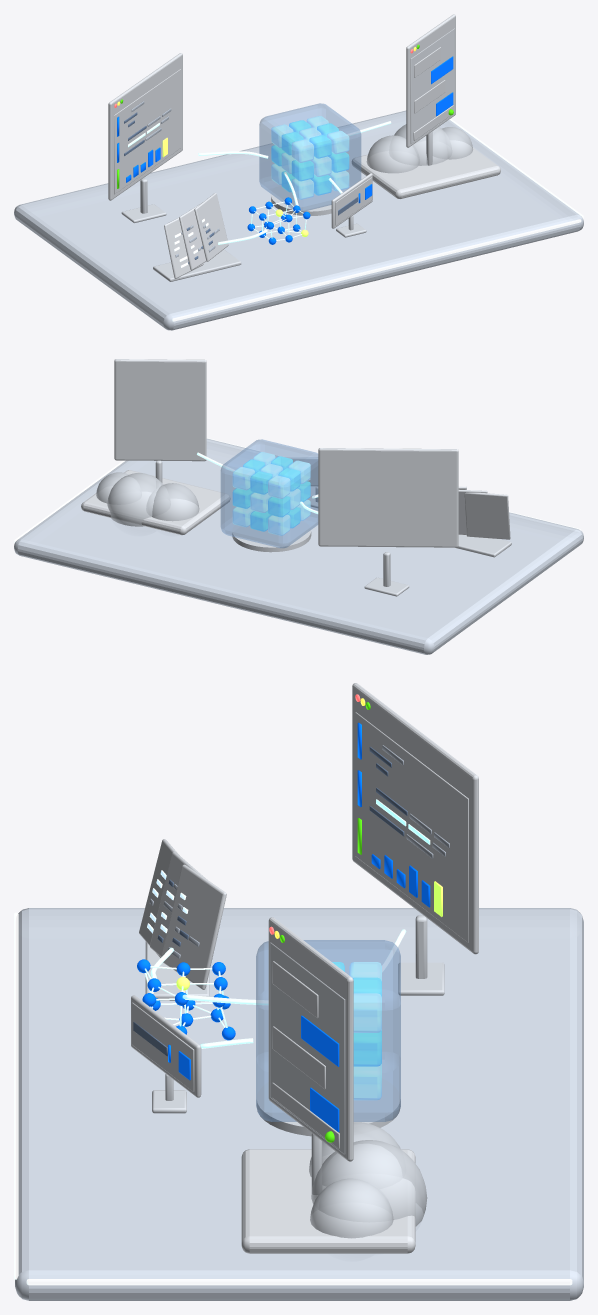
Rendered from ai-foundation-first-app.glb.
3 views of the same model, one above another, from view 1: azimuth 30°, elevation 25°; view 2: azimuth 150°, elevation 25°; view 3: azimuth 270°, elevation 25° (orthographic). The views are drawn at different scales.
Visible parts, largest first — view 1: Base, ModelCore, Notebook, CloudPad, ChatApp, Documents, PromptCard, VectorIndex, DataPaths; view 2: Base, Notebook, ChatApp, ModelCore, CloudPad, Documents, PromptCard; view 3: Base, Notebook, CloudPad, ChatApp, ModelCore, Documents, PromptCard, VectorIndex, DataPaths.
Boxes of the visible parts, x1,y1,x2,y2 form: Base: (14,110,583,330); ModelCore: (259,103,361,215); Notebook: (108,53,182,223); CloudPad: (351,124,500,198); ChatApp: (406,14,455,165); Documents: (153,193,241,281); PromptCard: (331,173,372,237); VectorIndex: (247,197,310,244); DataPaths: (198,121,391,244); Base: (14,438,583,654); Notebook: (318,448,458,596); ChatApp: (114,359,206,488); ModelCore: (220,439,318,552); CloudPad: (81,470,230,535); Documents: (455,486,511,557); PromptCard: (285,457,318,508); Base: (14,908,583,1300); Notebook: (352,683,478,995); CloudPad: (241,1122,427,1253); ChatApp: (268,917,353,1194); ModelCore: (256,940,400,1136); Documents: (139,839,226,1000); PromptCard: (131,995,201,1113); VectorIndex: (137,959,235,1040); DataPaths: (150,929,406,1048).
Bounding box in the file's own units: 7.61 × 2.83 × 4.91.
